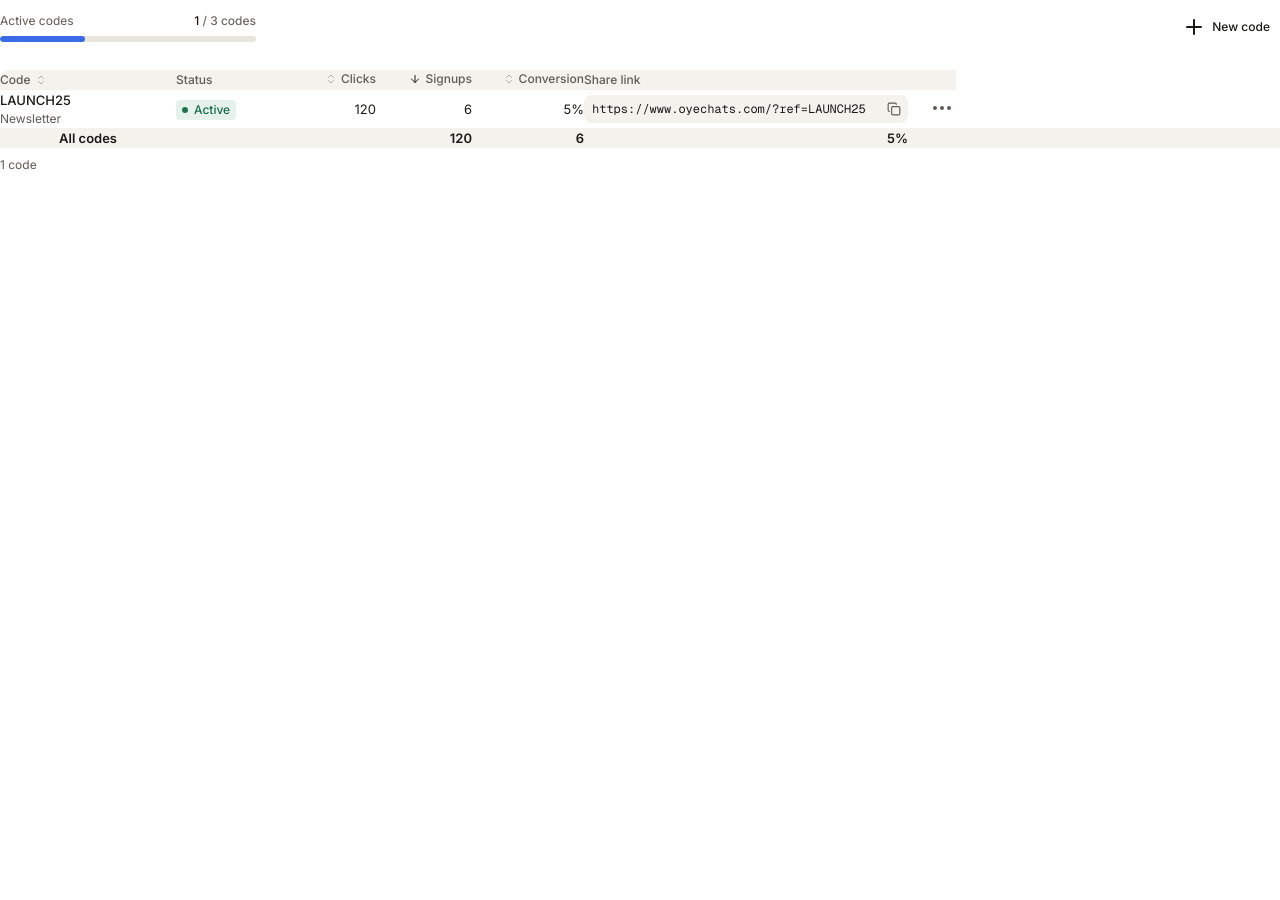
AffiliatePage: codes › rejects a code the backend would reject on format
The width and height of the screenshot is (1280, 900).
Click the button "New code" at [1226, 27], box [1172,13,1279,41]
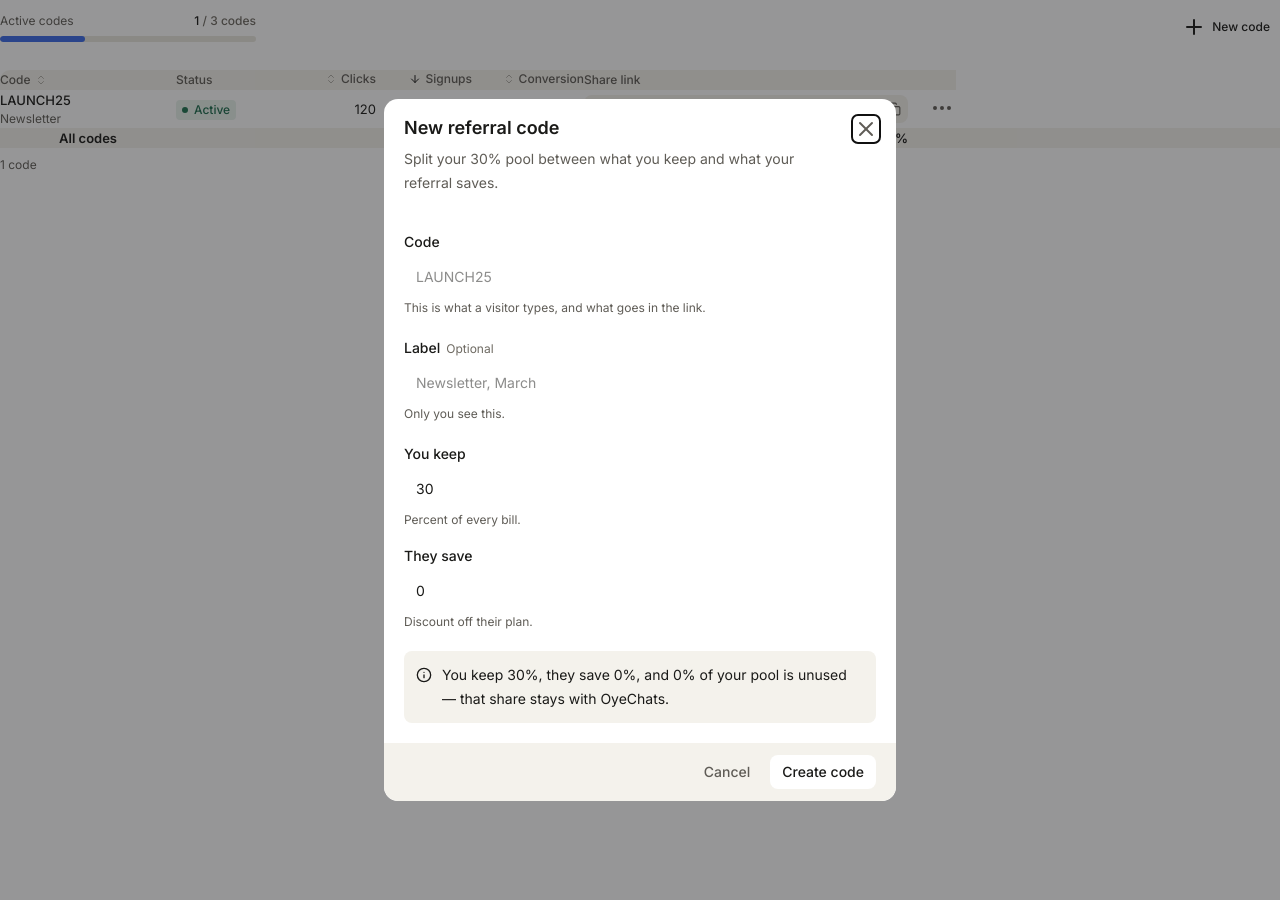
Type "no spaces here" into the field labelled "Code" at [640, 276], box [404,259,876,293]
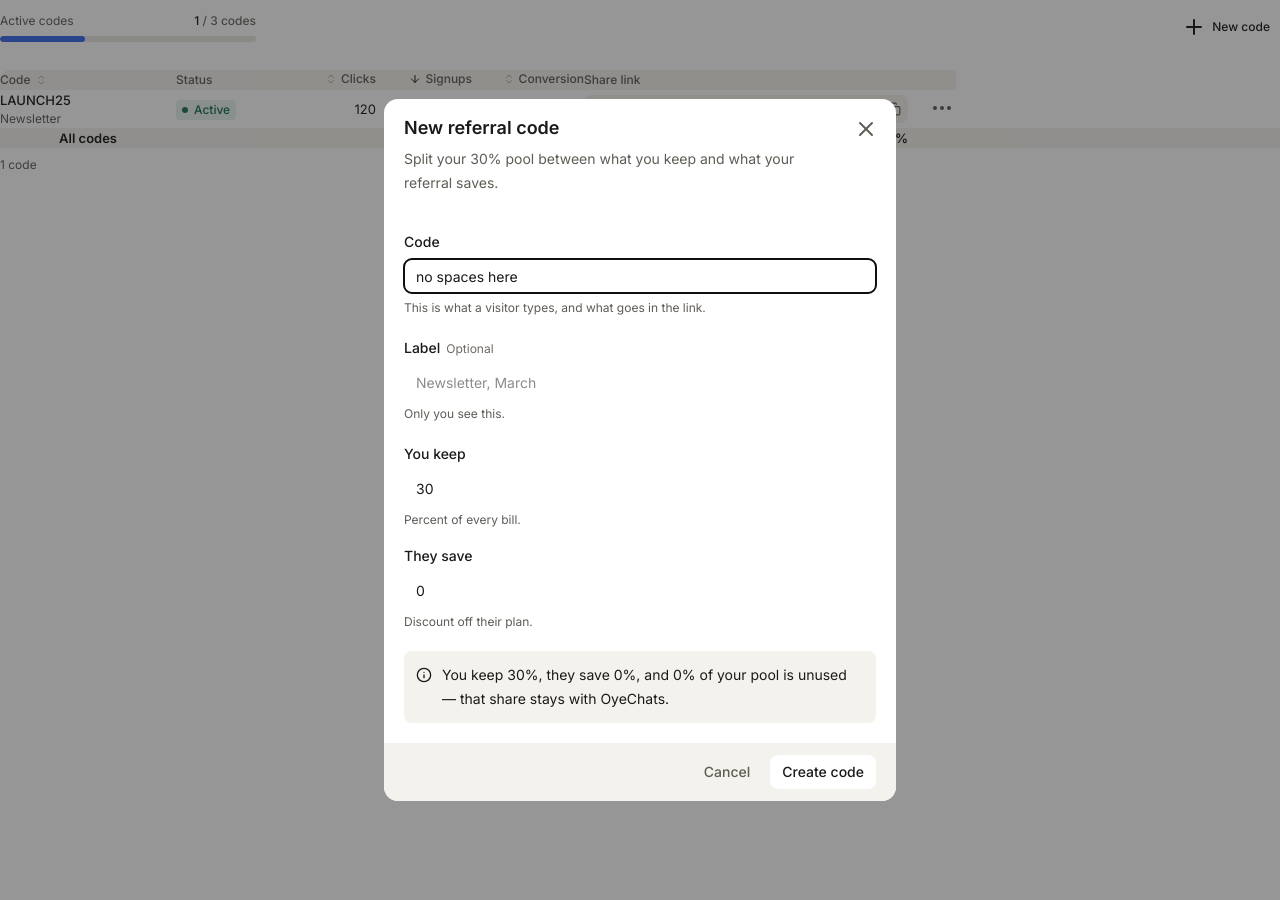
Click the button "Create code" at [823, 772], box [770,755,876,789]
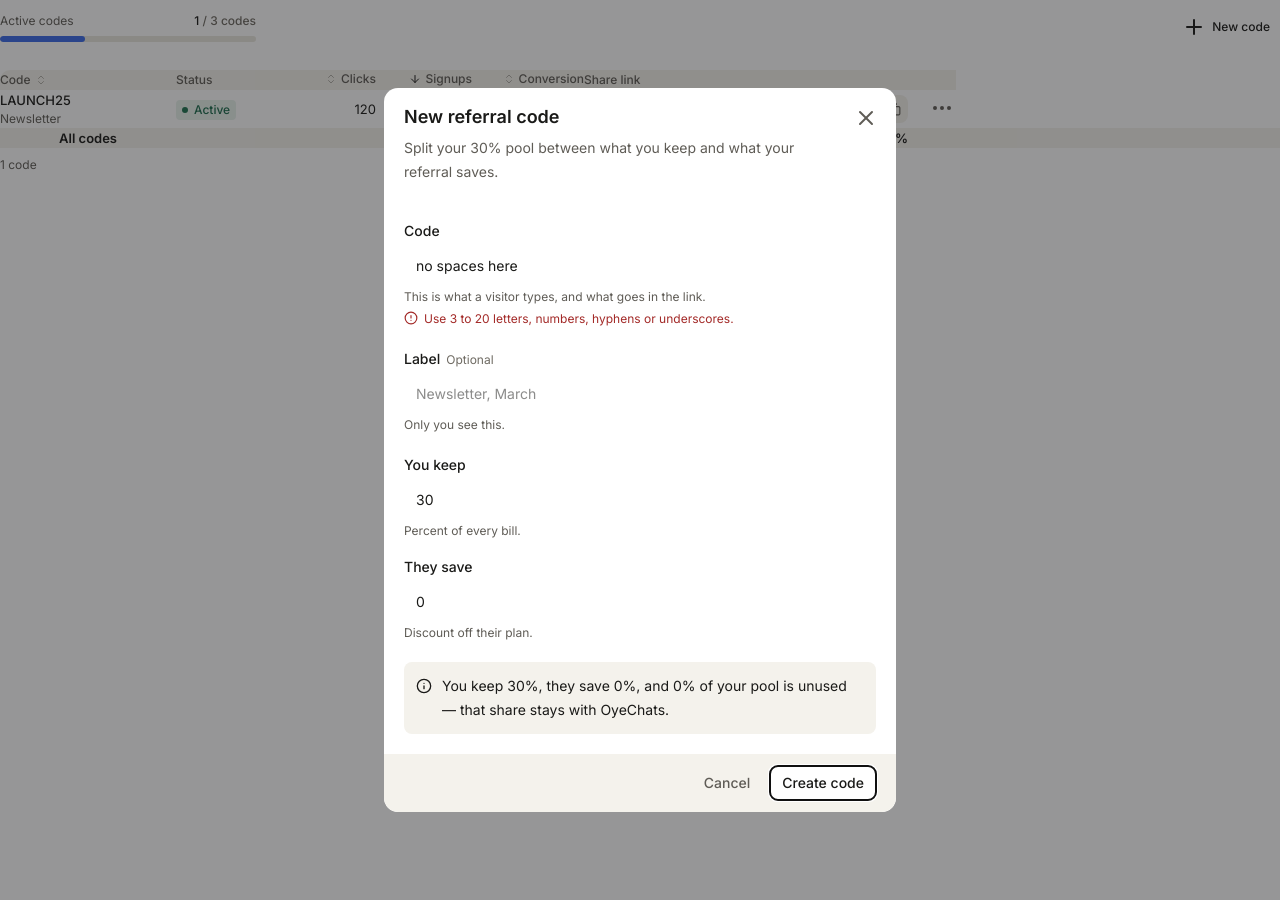
Expected: the text "Use 3 to 20 letters, numbers, hyphens or underscores." is shown, [424,310,734,328]
